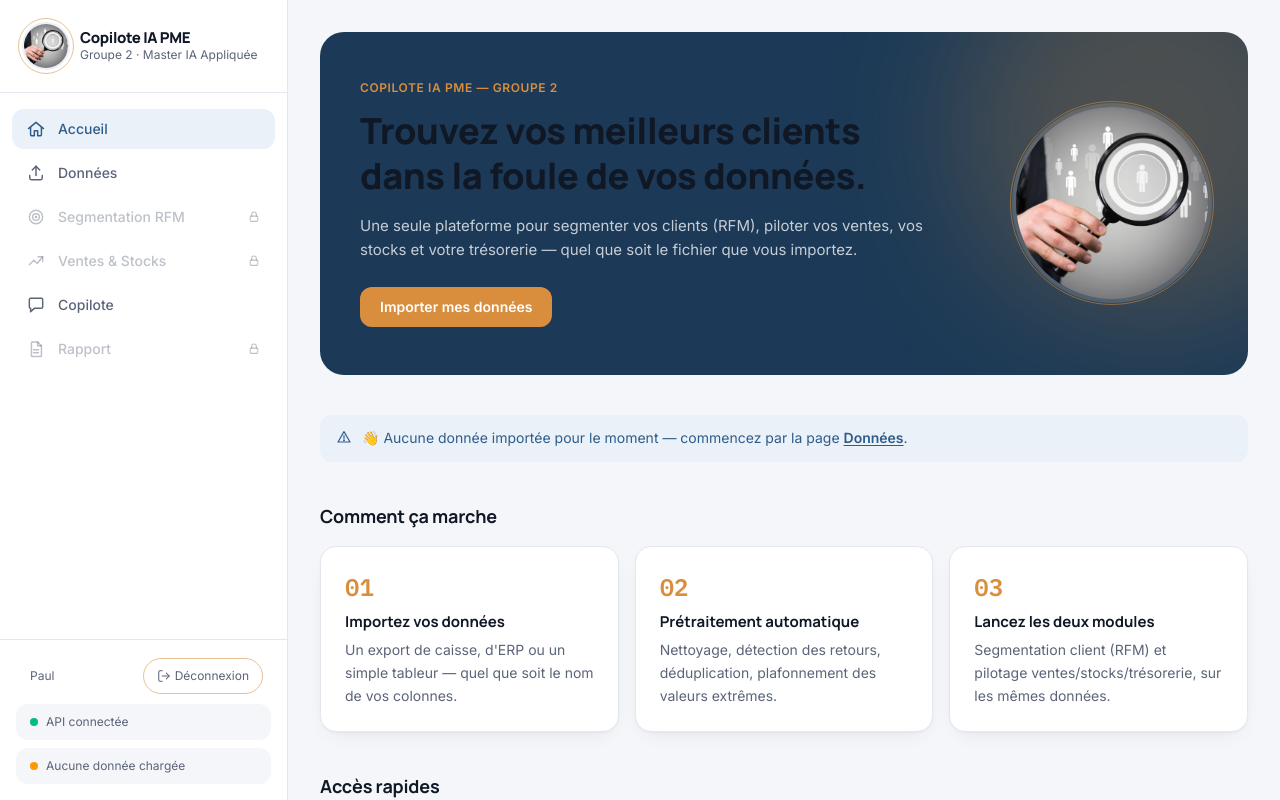
Test: le bouton Déconnexion renvoie vers la page de connexion
What coordinates should you click on to do the following:
click the button "Déconnexion"
I would click on:
 (203, 676)
Its box is [149,664,257,688].
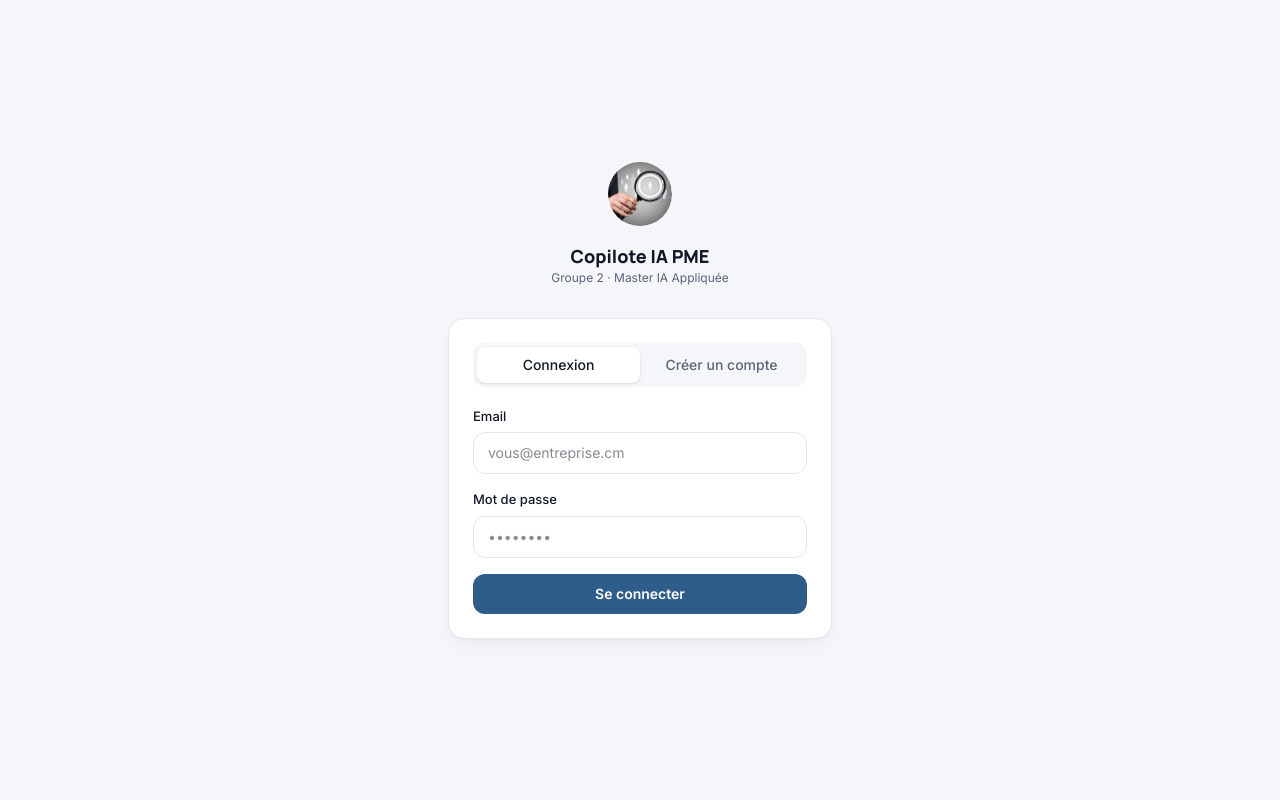
Check: the button "Se connecter" is shown, box [473,574,807,614]
